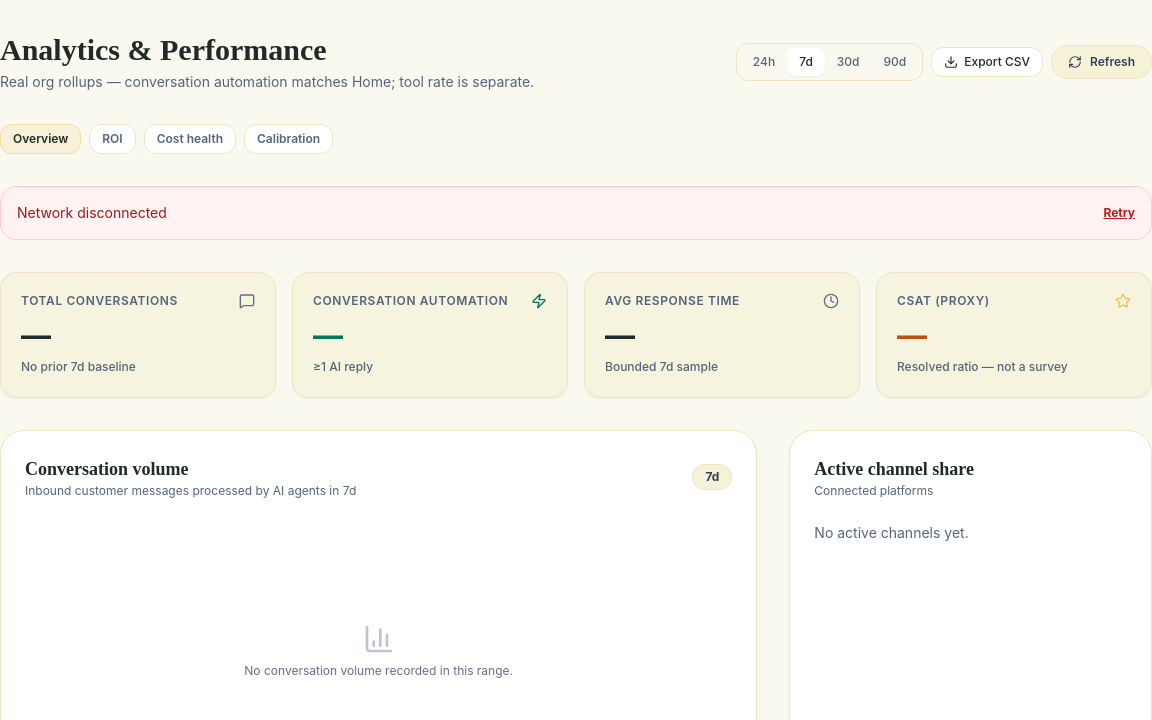
it: AnalyticsPage › handles error state and allows retry
Expected: the text "Network disconnected" is shown, [17,203,167,223]
What coordinates should you click on to do the following:
click the button "Retry"
I would click on:
 (1119, 213)
Its box is [1103,205,1135,221].
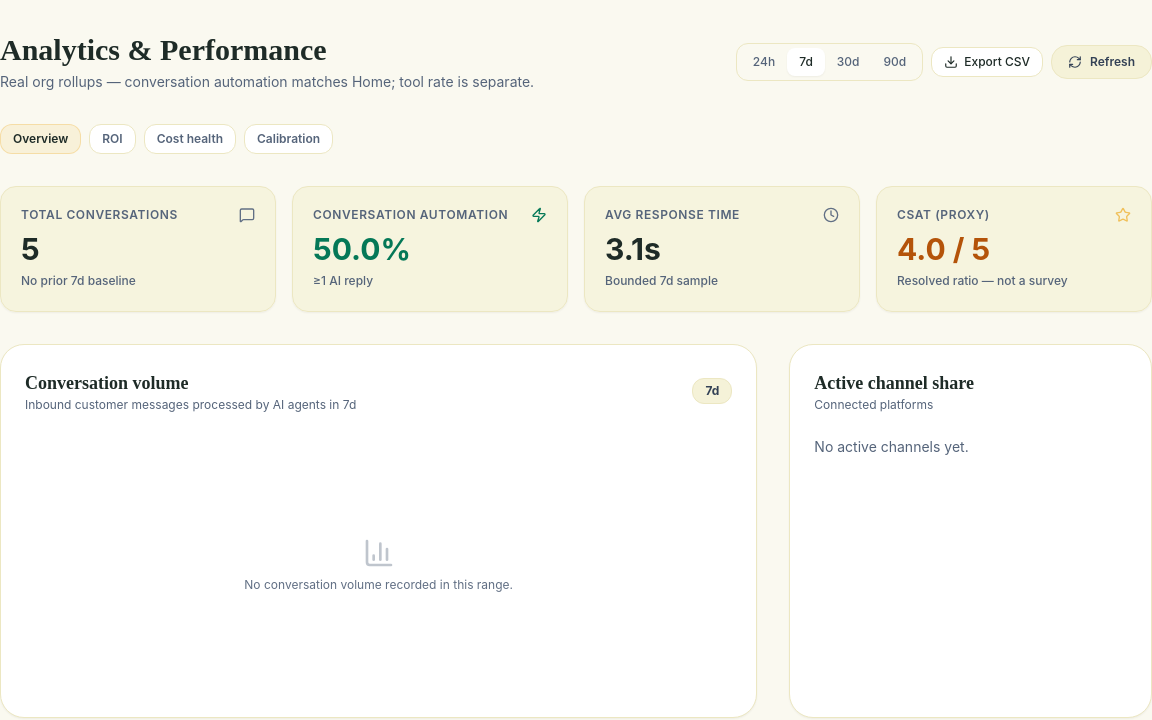
Expected: the text "5" is shown, [21,231,40,267]
Expected: the text "Network disconnected" is gone
